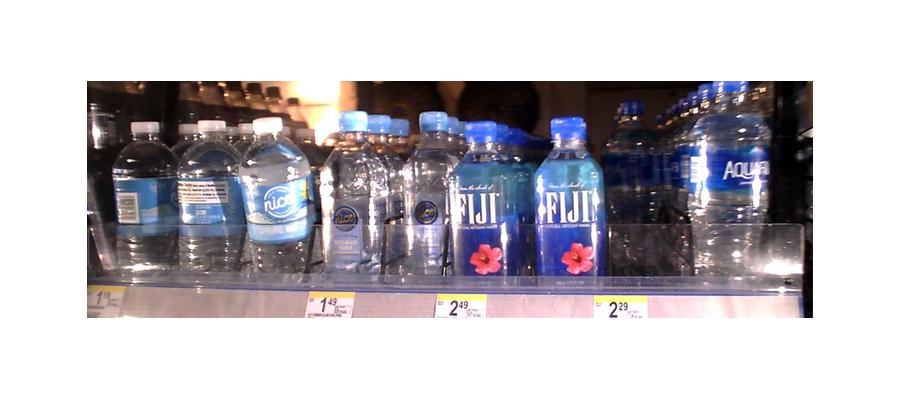bottle: (683, 74, 771, 277), (316, 109, 396, 279), (452, 118, 531, 279), (606, 96, 675, 279), (533, 116, 606, 287), (238, 114, 310, 283), (112, 122, 176, 279), (397, 115, 457, 279), (176, 126, 240, 278)
